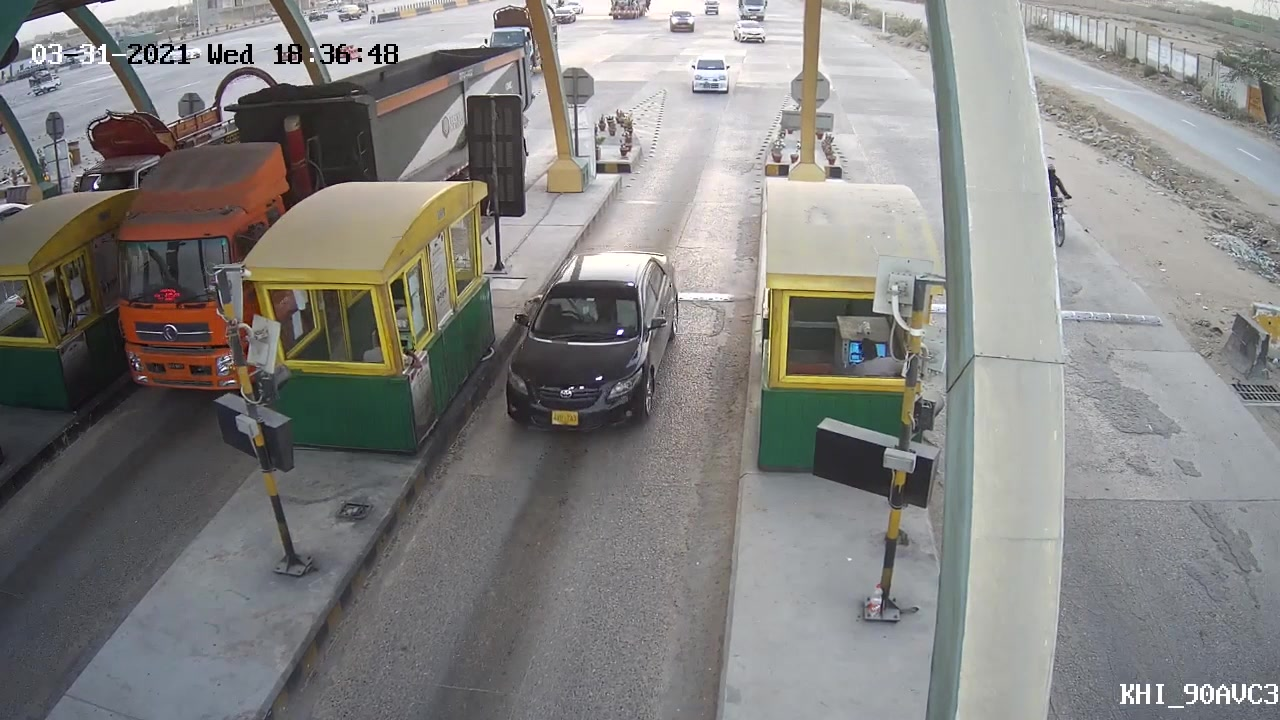F1: (485, 242, 691, 442)
